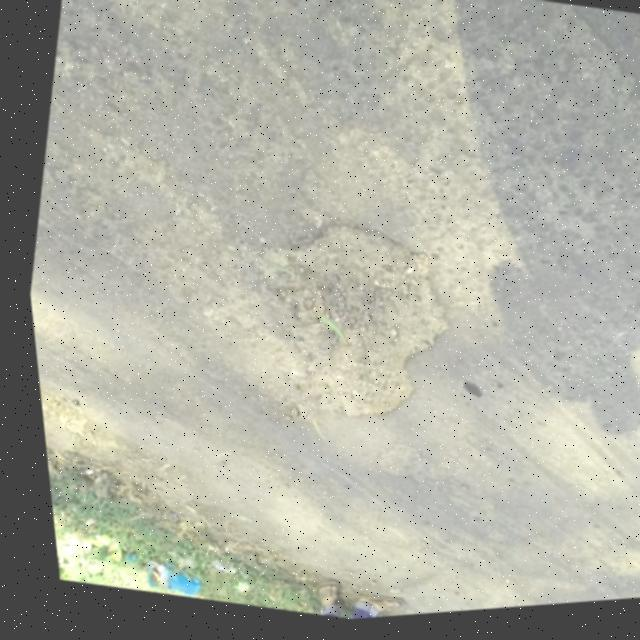pothole: (182, 192, 478, 466)
